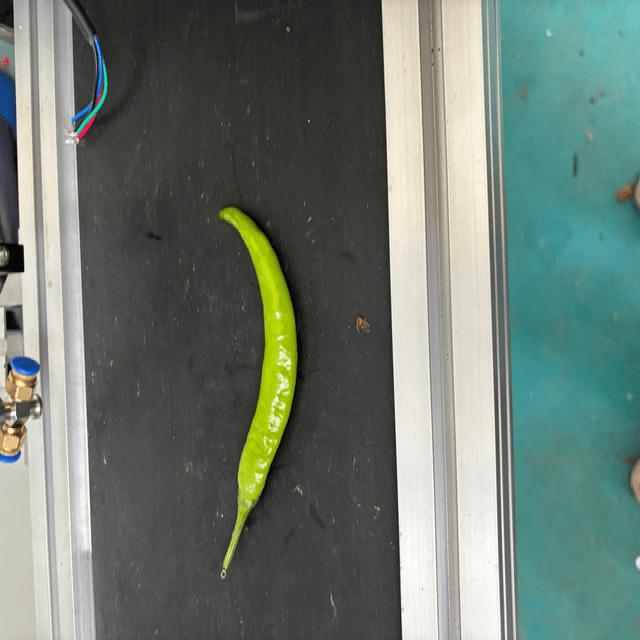chili: (219, 208, 300, 518)
